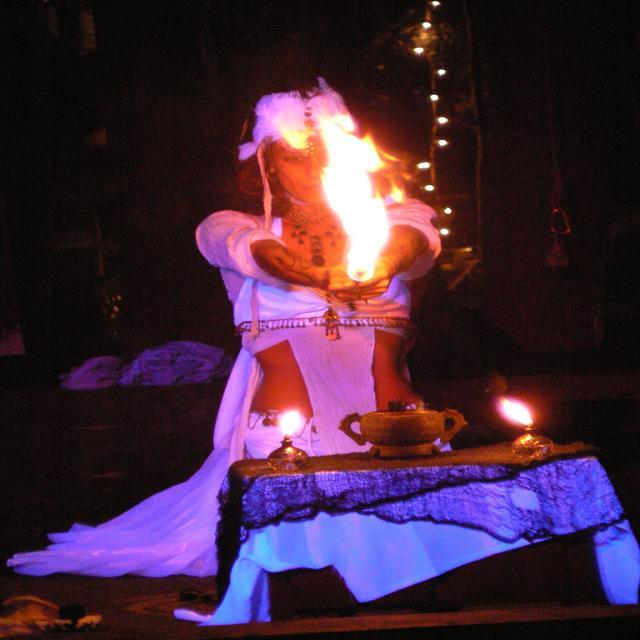Fire: (333, 142, 388, 278)
